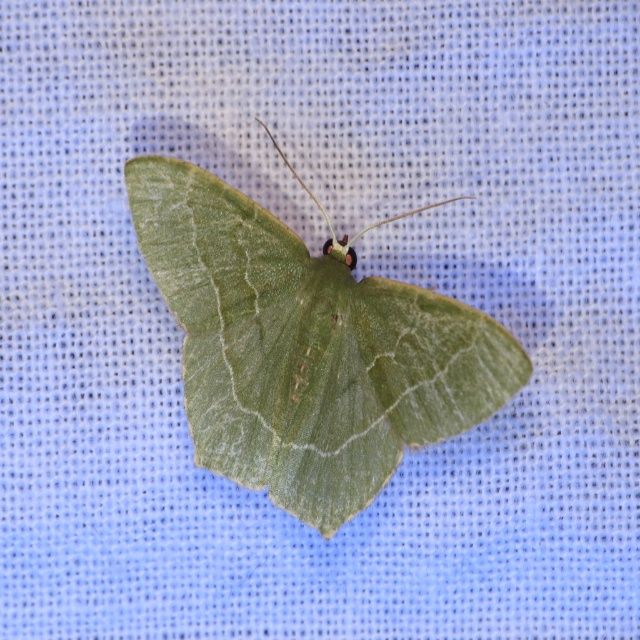Butterfly: (120, 118, 526, 534)
